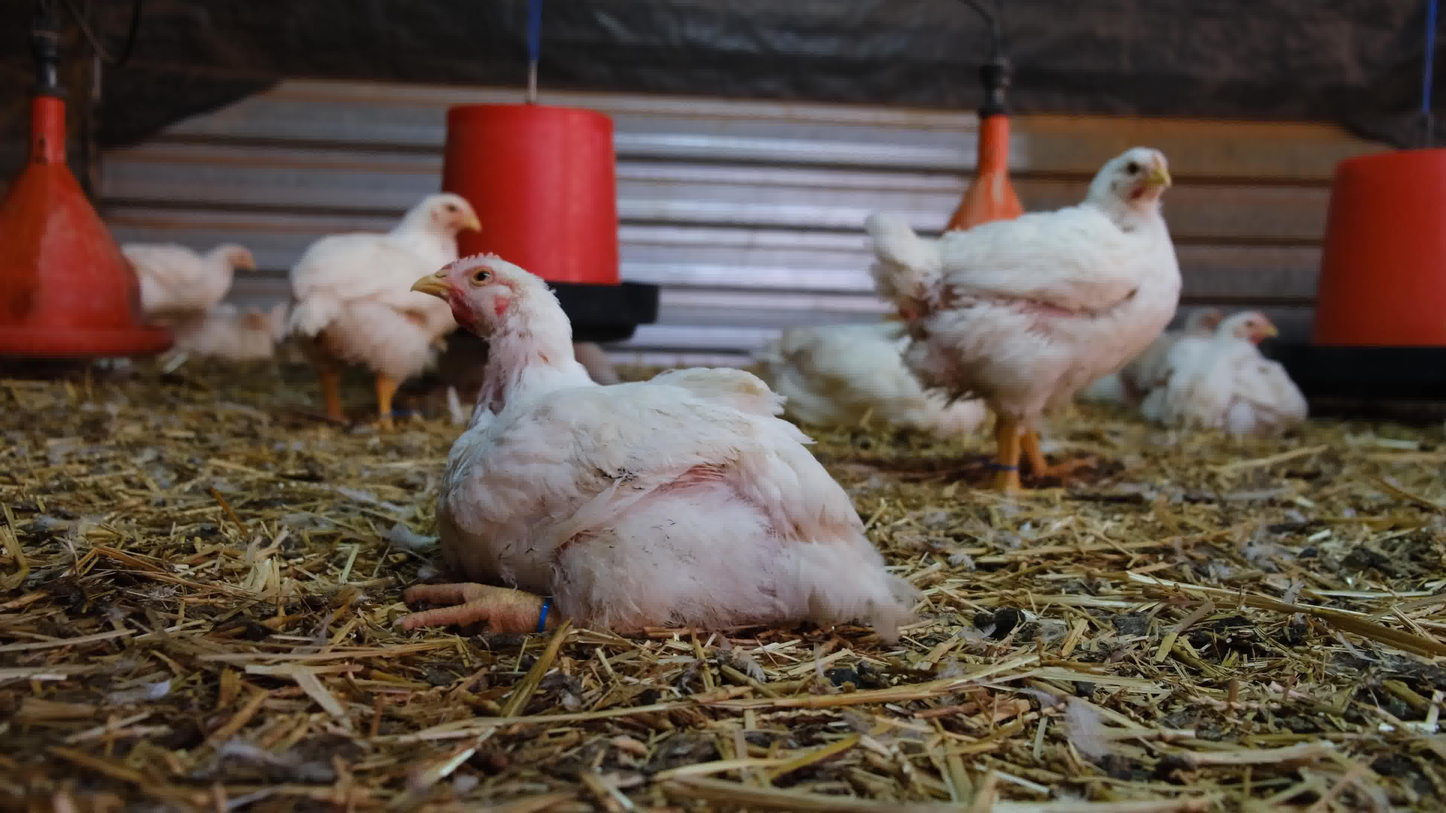AbNormal: (363, 245, 923, 640), (764, 292, 1028, 452), (1179, 314, 1314, 442), (1150, 288, 1252, 422), (188, 297, 297, 369)
Normal: (860, 136, 1196, 489), (273, 188, 486, 416), (105, 222, 267, 327)
